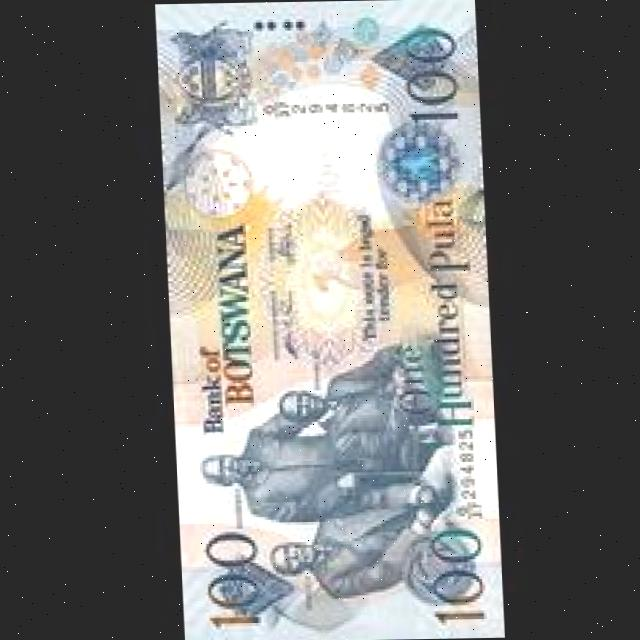banknote: (151, 0, 500, 640)
